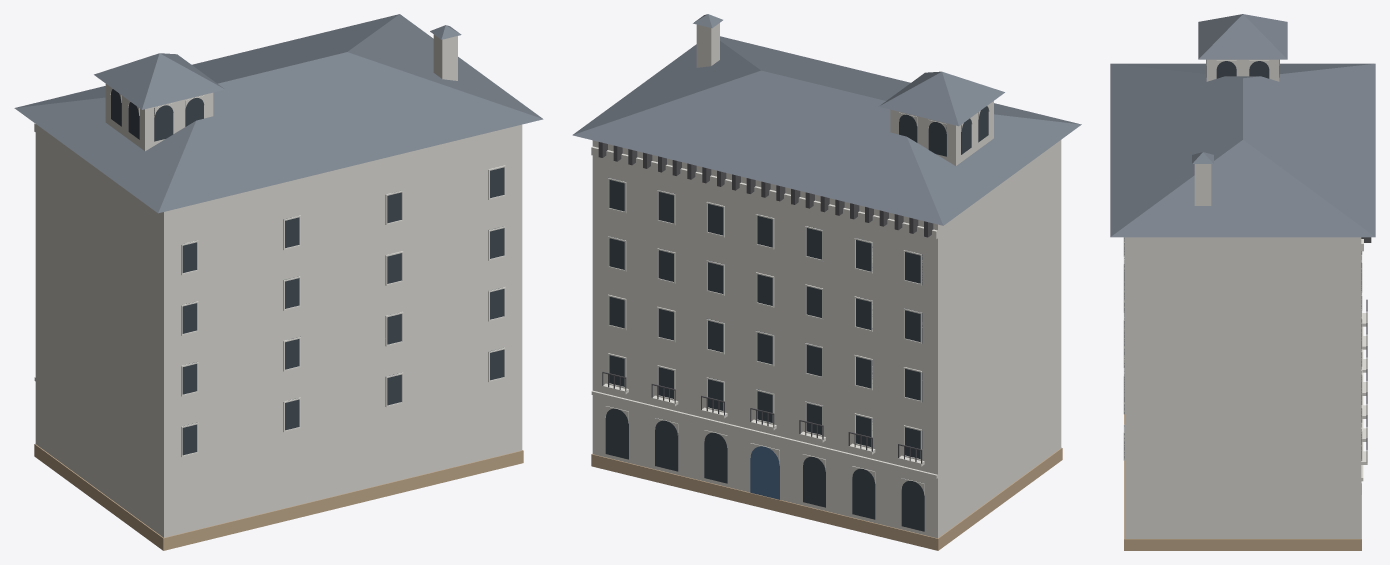
Rendered from ca_classical5.glb.
3 renders of one model, left to right at view 1: azimuth 30°, elevation 25°; view 2: azimuth 150°, elevation 25°; view 3: azimuth 270°, elevation 25°, orthographic. The views are drawn at different scales.
Parts seen in each view (by area): view 1: ca_classical5; view 2: ca_classical5; view 3: ca_classical5.
Part boxes in pixels (x1,y1,x2,y2): ca_classical5: [14, 14, 543, 550]; ca_classical5: [572, 14, 1081, 550]; ca_classical5: [1110, 14, 1375, 550].
Bounding box in the file's own units: 22.6 × 24.4 × 14.6.
